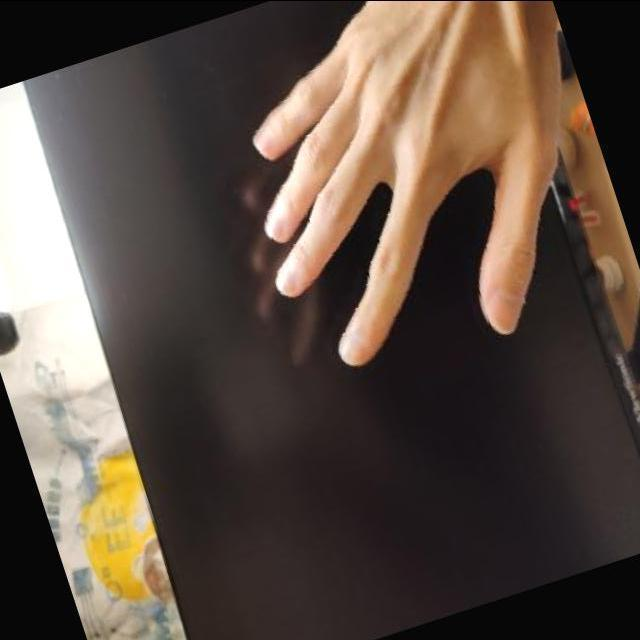hand: (174, 0, 640, 428)
